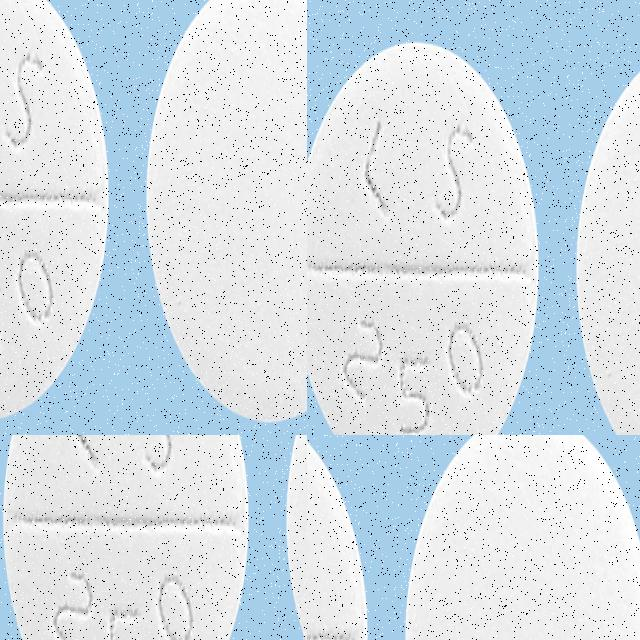Carbastar: (307, 39, 543, 435), (571, 36, 640, 435)
Cifroxa: (395, 435, 640, 640)
Ciropan: (150, 0, 307, 424), (0, 0, 112, 427)
Clasta: (2, 468, 290, 640)
